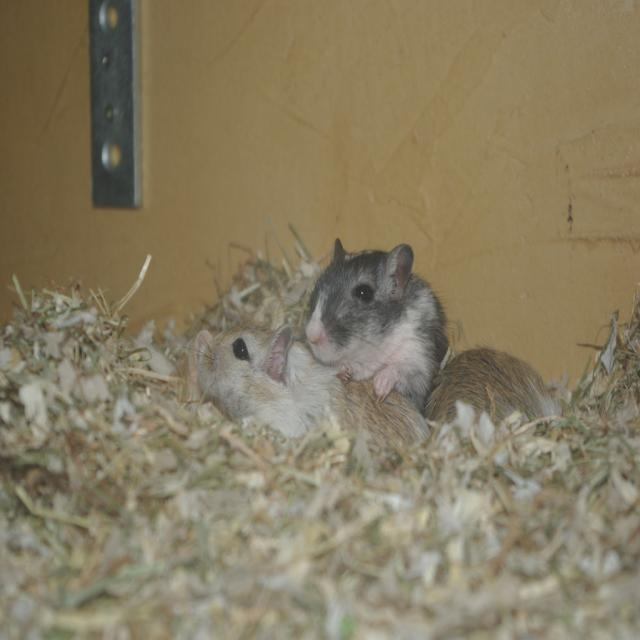rat: (156, 328, 428, 467), (301, 232, 453, 409), (423, 346, 557, 438)
